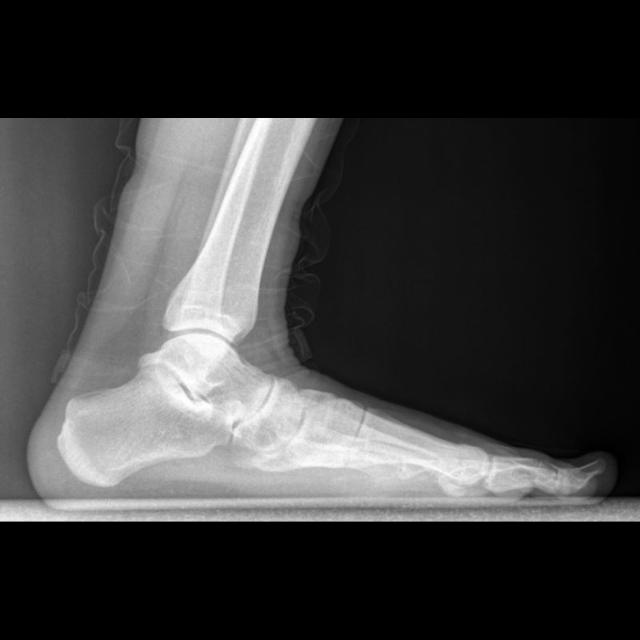a: (56, 366, 235, 488)
b: (237, 377, 305, 453)
c: (347, 407, 490, 487)
